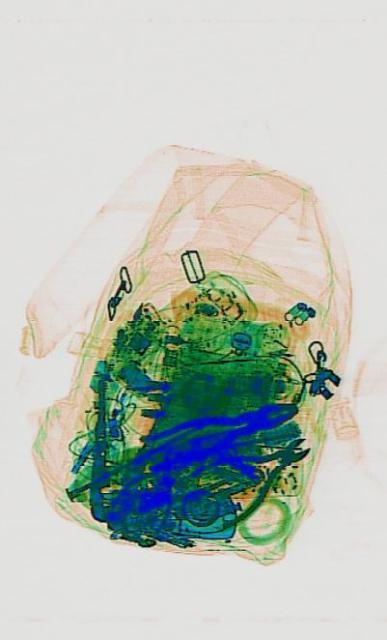Pliers: (185, 406, 316, 540), (139, 386, 298, 476)
